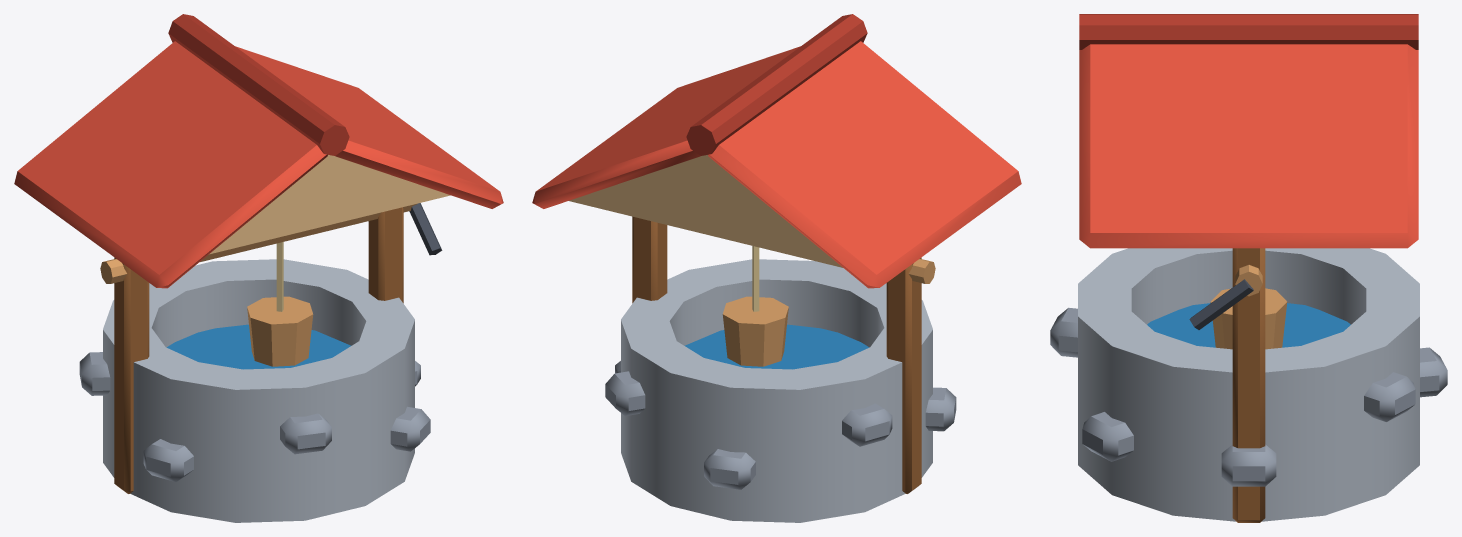
Rendered from home_well.fbx.
3 renders of one model, left to right at view 1: azimuth 30°, elevation 25°; view 2: azimuth 150°, elevation 25°; view 3: azimuth 270°, elevation 25°, orthographic. The views are drawn at different scales.
Visible parts, largest first — view 1: home_well; view 2: home_well; view 3: home_well.
Part boxes in pixels (x1,y1,x2,y2): home_well: [14, 14, 503, 522]; home_well: [532, 14, 1021, 522]; home_well: [1050, 14, 1447, 522].
Size of the model in its own units: 0.8204 by 0.875 by 0.725.
